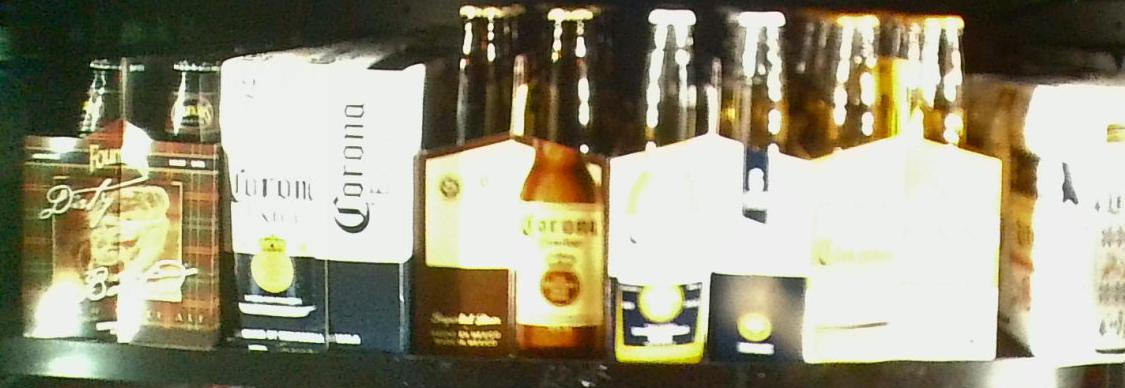bottle: (613, 6, 805, 362), (810, 8, 998, 366), (421, 3, 609, 360), (13, 57, 222, 349), (220, 54, 417, 349), (999, 76, 1125, 358)
